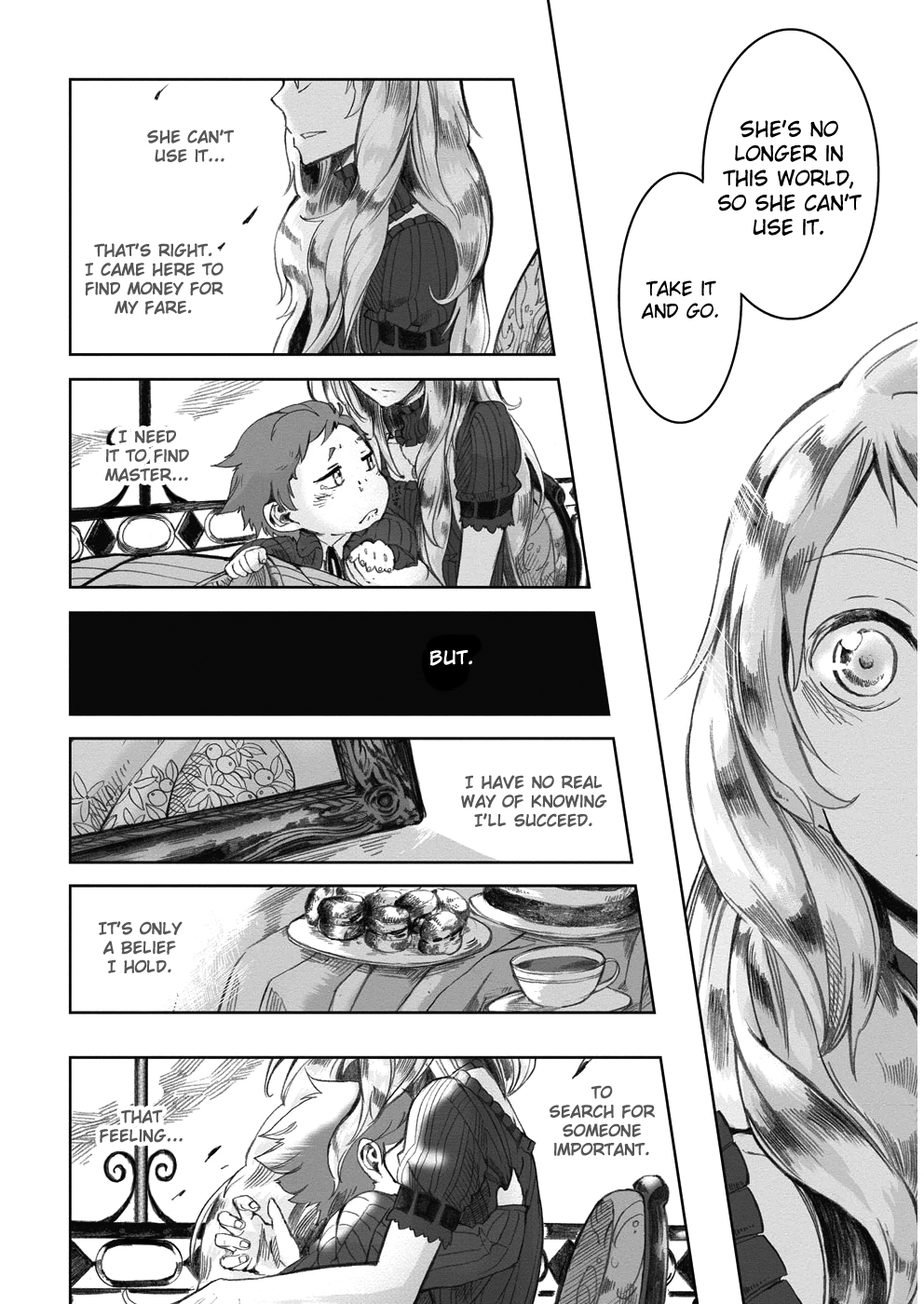bubble: (703, 31, 880, 319), (618, 172, 742, 423)
